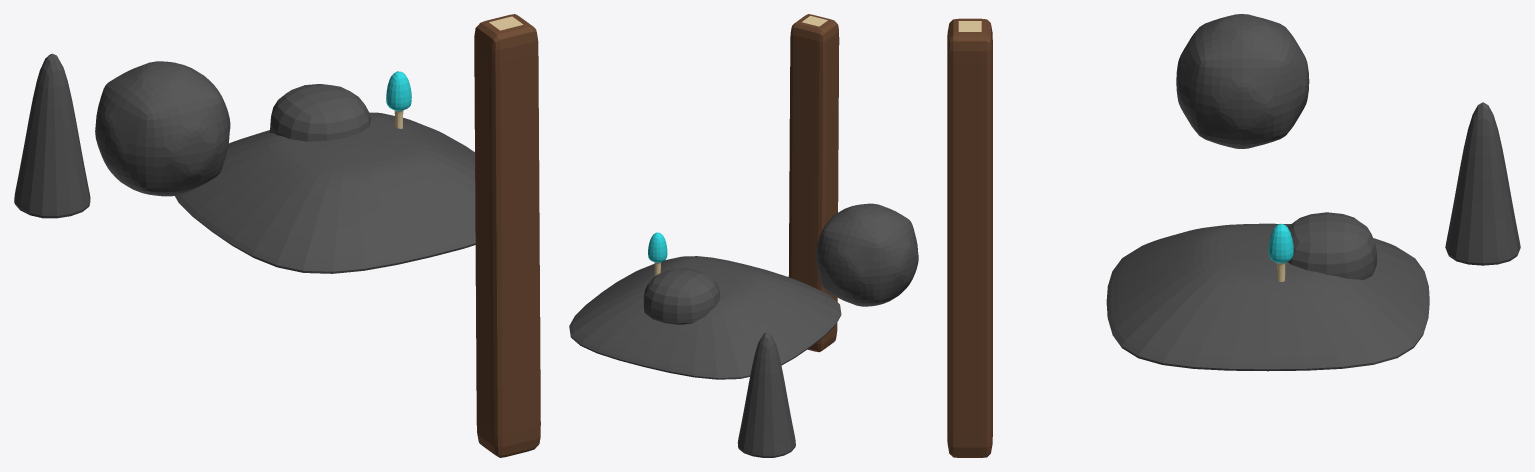
File: CaveClutter.fbx
The picture shows the model from 3 angles, left to right: view 1: azimuth 30°, elevation 25°; view 2: azimuth 150°, elevation 25°; view 3: azimuth 270°, elevation 25°; orthographic projection. The views are drawn at different scales.
Visible parts, largest first — view 1: StoneBase, WoodBeam, Boulder2, Stalag, Boulder1, Mushroom; view 2: StoneBase, WoodBeam, Boulder2, Stalag, Boulder1, Mushroom; view 3: StoneBase, WoodBeam, Boulder2, Stalag, Boulder1, Mushroom.
Boxes of the visible parts, x1,y1,x2,y2 form: StoneBase: (175,112,475,273); WoodBeam: (474,14,540,457); Boulder2: (95,61,230,196); Stalag: (14,53,90,218); Boulder1: (270,84,370,141); Mushroom: (386,71,411,128); StoneBase: (569,256,841,379); WoodBeam: (788,14,839,352); Boulder2: (815,203,918,306); Stalag: (737,332,795,457); Boulder1: (643,268,720,324); Mushroom: (648,232,667,276); StoneBase: (1106,223,1429,371); WoodBeam: (947,18,992,457); Boulder2: (1176,14,1309,148); Stalag: (1445,102,1520,265); Boulder1: (1287,212,1377,280); Mushroom: (1268,223,1293,281).
Size of the model in its own units: 949 by 974 by 1198.
